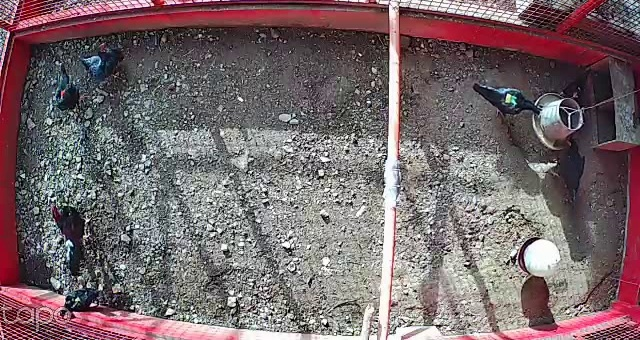Chicken: (467, 76, 543, 123), (551, 133, 589, 220), (78, 35, 133, 85), (50, 57, 92, 113), (59, 283, 119, 318), (555, 65, 597, 102)
Rooster: (49, 201, 98, 279)
Saddle_Color_Red: (60, 89, 68, 96)
Saddle_Color_YellowGreen: (503, 91, 519, 105)
